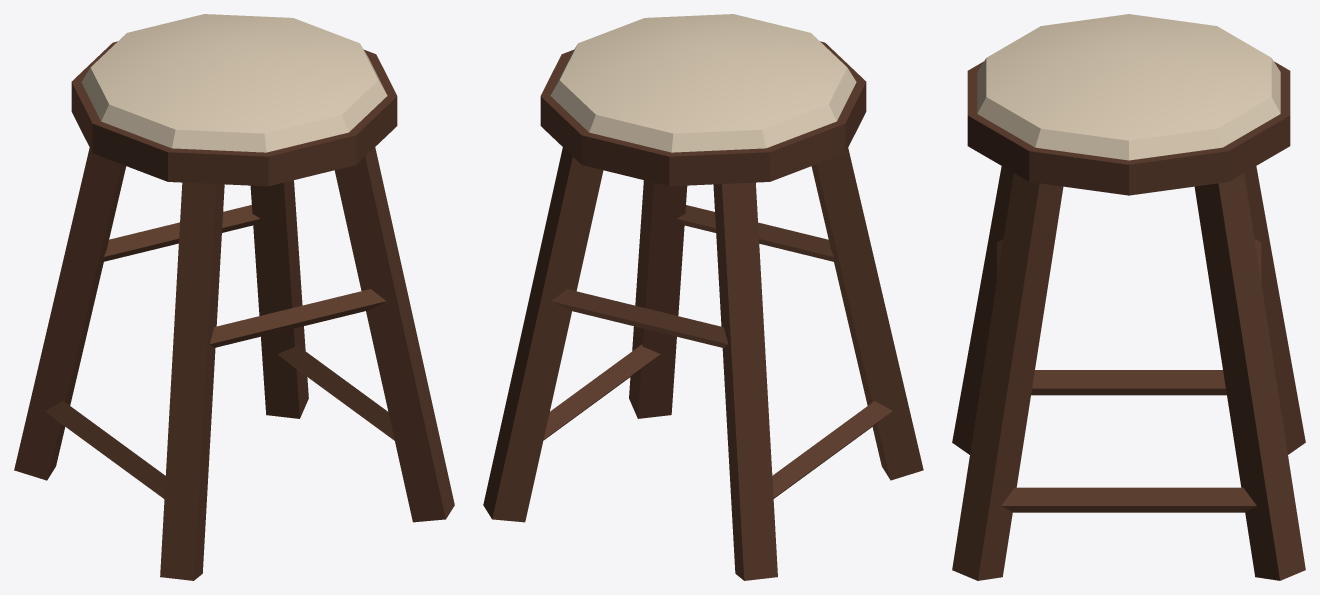
File: Stool_2.fbx
3 views of the same model, side by side, from view 1: azimuth 30°, elevation 25°; view 2: azimuth 150°, elevation 25°; view 3: azimuth 270°, elevation 25° (orthographic). The views are drawn at different scales.
Visible parts, largest first — view 1: polySurface1510; view 2: polySurface1510; view 3: polySurface1510.
Boxes of the visible parts, left/top/right/bottom form: polySurface1510: left=14, top=14, right=454, bottom=580; polySurface1510: left=483, top=14, right=923, bottom=580; polySurface1510: left=952, top=14, right=1305, bottom=580.
Size of the model in its own units: 0.6236 by 0.9028 by 0.625.
1 material, 1 textured.
